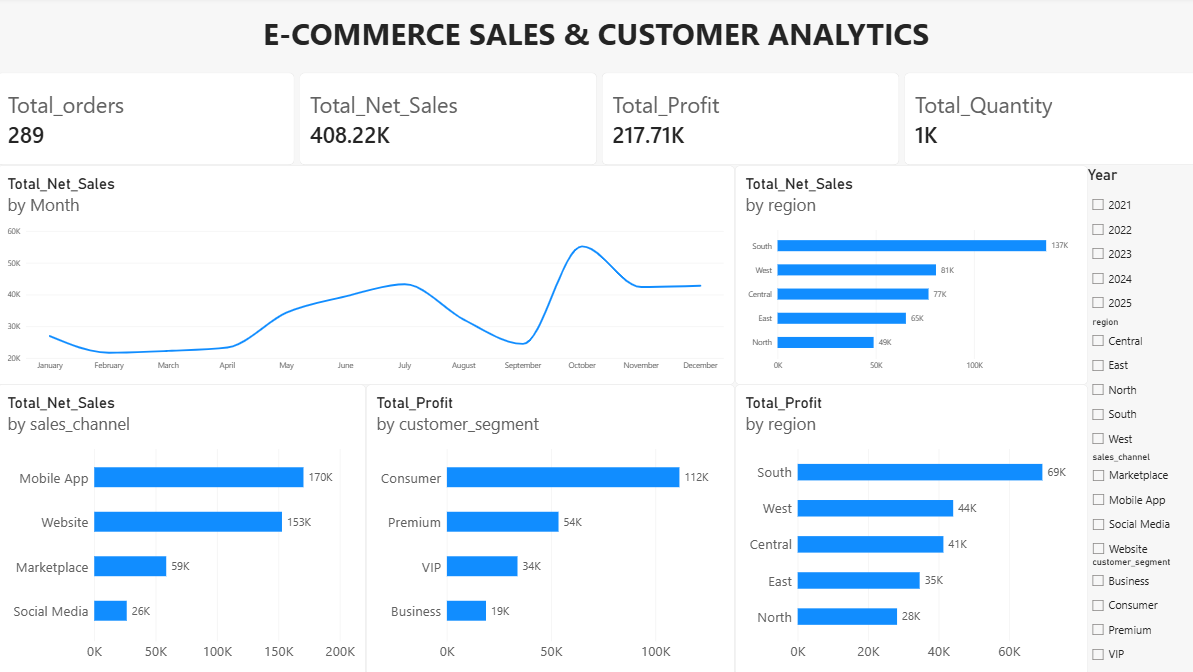

This screenshot's page, from the dashboard's own definition file:
{"tool":"powerbi","page":{"name":"Sales & Customer Overview","canvas":[1920,1080],"ordinal":0},"visuals":[{"type":"cardVisual","fields":{"Data":["All_Measures.Total_orders","All_Measures.Total_Net_Sales","All_Measures.Total_Profit","All_Measures.Total_Quantity"]},"box":[0,121.9,1919.1,147.4],"z":0},{"type":"lineChart","fields":{"Category":["ECommerce_sales_cleaned1.order_date.Variation.Date Hierarchy.Month"],"Y":["All_Measures.Total_Net_Sales"]},"box":[0,269.3,1173.6,348.7],"z":1000},{"type":"clusteredBarChart","fields":{"Category":["ECommerce_sales_cleaned1.sales_channel"],"Y":["All_Measures.Total_Net_Sales"]},"box":[0,618,586.8,462.1],"z":2000},{"type":"clusteredBarChart","fields":{"Category":["ECommerce_sales_cleaned1.region"],"Y":["All_Measures.Total_Net_Sales"]},"box":[1173.6,269.3,561.3,348.7],"z":3000},{"type":"textbox","box":[0,25.5,1919.1,96.4],"z":4000},{"type":"clusteredBarChart","fields":{"Category":["ECommerce_sales_cleaned1.region"],"Y":["All_Measures.Total_Profit"]},"box":[1173.6,618,561.3,462.1],"z":5000},{"type":"clusteredBarChart","fields":{"Category":["ECommerce_sales_cleaned1.customer_segment"],"Y":["All_Measures.Total_Profit"]},"box":[586.8,618,586.8,462.1],"z":6000},{"type":"slicer","title":"Year","fields":{"Values":["ECommerce_sales_cleaned1.order_date.Variation.Date Hierarchy.Year"]},"box":[1734.8,269.3,184.3,240.9],"z":7000},{"type":"slicer","fields":{"Values":["ECommerce_sales_cleaned1.region"]},"box":[1734.8,510.2,184.3,215.4],"z":8000},{"type":"slicer","fields":{"Values":["ECommerce_sales_cleaned1.sales_channel"]},"box":[1734.8,725.7,184.3,167.2],"z":9000},{"type":"slicer","fields":{"Values":["ECommerce_sales_cleaned1.customer_segment"]},"box":[1734.8,892.9,184.3,187.1],"z":10000}]}

Visuals, with their boxes in screenshot pixels (x1, y1, x2, y2), scaled from the page's 1920x1080 canvas onto the 1193x672 screenshot:
cardVisual - All_Measures.Total_orders x All_Measures.Total_Net_Sales: crop(0, 76, 1192, 168)
lineChart - ECommerce_sales_cleaned1.order_date.Variation.Date Hierarchy.Month x All_Measures.Total_Net_Sales: crop(0, 168, 729, 385)
clusteredBarChart - ECommerce_sales_cleaned1.sales_channel x All_Measures.Total_Net_Sales: crop(0, 385, 365, 671)
clusteredBarChart - ECommerce_sales_cleaned1.region x All_Measures.Total_Net_Sales: crop(729, 168, 1078, 385)
textbox: crop(0, 16, 1192, 76)
clusteredBarChart - ECommerce_sales_cleaned1.region x All_Measures.Total_Profit: crop(729, 385, 1078, 671)
clusteredBarChart - ECommerce_sales_cleaned1.customer_segment x All_Measures.Total_Profit: crop(365, 385, 729, 671)
"Year" slicer: crop(1078, 168, 1192, 317)
slicer - ECommerce_sales_cleaned1.region: crop(1078, 317, 1192, 451)
slicer - ECommerce_sales_cleaned1.sales_channel: crop(1078, 452, 1192, 556)
slicer - ECommerce_sales_cleaned1.customer_segment: crop(1078, 556, 1192, 671)
